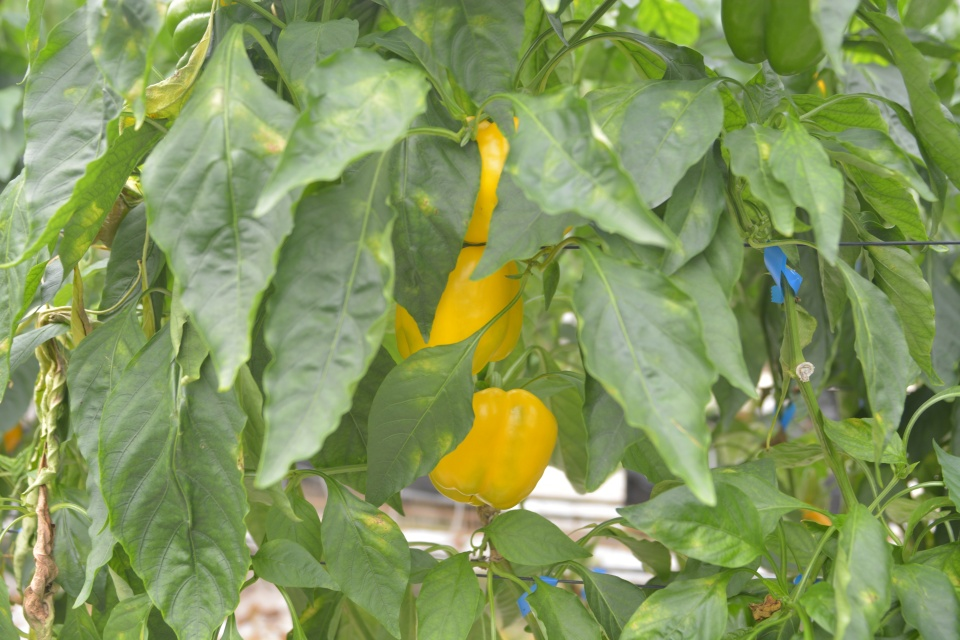fruit: (390, 245, 524, 378), (424, 384, 560, 511), (458, 112, 522, 249), (716, 0, 825, 76), (162, 0, 225, 58), (88, 187, 139, 249)
